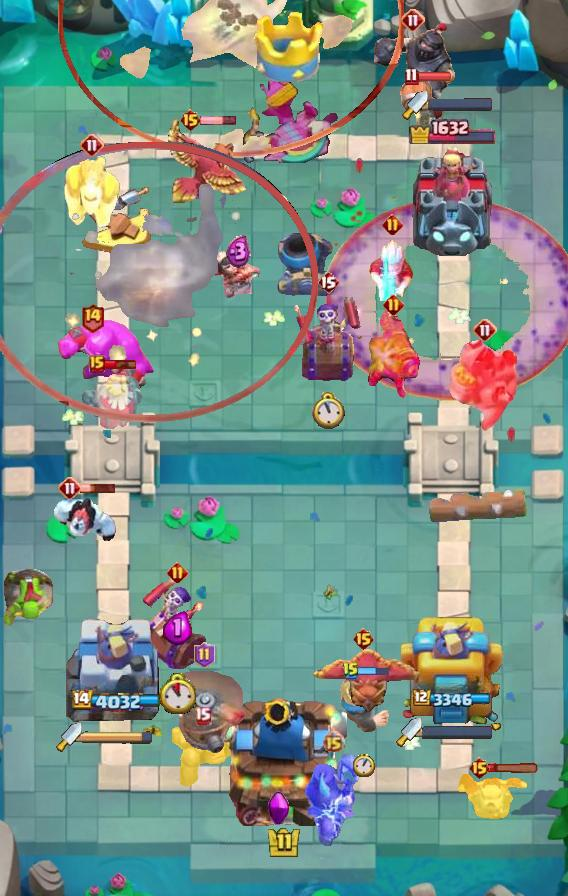bar: (401, 611, 505, 731), (66, 611, 162, 731), (409, 142, 497, 256)
bar-level: (0, 567, 54, 629)
cannoneer-tower: (449, 340, 521, 434)
clone: (57, 318, 155, 404)
dark-prince: (157, 671, 251, 753)
electro-spirit: (163, 611, 192, 645), (225, 235, 250, 269)
elixir: (159, 674, 196, 715), (312, 392, 345, 430), (353, 753, 375, 777)
elixir-golem-small: (61, 150, 123, 230)
emote: (488, 763, 540, 774), (79, 482, 116, 494), (102, 358, 138, 370), (200, 115, 237, 126), (416, 70, 452, 81), (358, 666, 390, 678)
firecracker: (338, 672, 390, 732)
golden-knight: (166, 116, 248, 204)
inferno-dragon: (304, 752, 362, 846)
king-tower: (221, 690, 347, 826)
king-tower-bar: (422, 725, 494, 739), (82, 730, 154, 744), (428, 97, 492, 110)
knight: (398, 78, 446, 144)
mega-minion: (365, 309, 421, 401)
mini-pekka: (454, 770, 530, 822)
minion: (428, 486, 528, 524)
mortar: (368, 235, 416, 301)
mortar-evolution: (80, 369, 142, 429)
mother-witch: (306, 646, 420, 714)
musketeer: (277, 232, 337, 296)
rage: (50, 493, 120, 545)
rocket: (324, 197, 567, 401)
royal-ghost: (0, 142, 318, 422), (58, 0, 404, 156)
royal-guardian: (368, 21, 458, 105)
selected: (408, 116, 498, 144), (68, 690, 159, 714), (413, 689, 493, 709)
skeleton-dragon: (212, 248, 264, 300)
skeleton-king-bar: (142, 573, 212, 673), (294, 297, 362, 383)
skeleton-king-skill: (266, 791, 292, 825)
text: (80, 303, 105, 334), (401, 8, 425, 32), (80, 133, 104, 157), (473, 318, 497, 342), (58, 476, 82, 500), (193, 642, 215, 668), (178, 108, 201, 132), (352, 627, 375, 651), (322, 730, 345, 754), (468, 756, 491, 780), (317, 270, 339, 294), (382, 213, 403, 235), (383, 294, 405, 315), (167, 561, 188, 583), (342, 661, 360, 681), (193, 707, 211, 725), (89, 355, 105, 373), (405, 66, 419, 85)
valkyrie-evolution: (167, 723, 237, 789)
